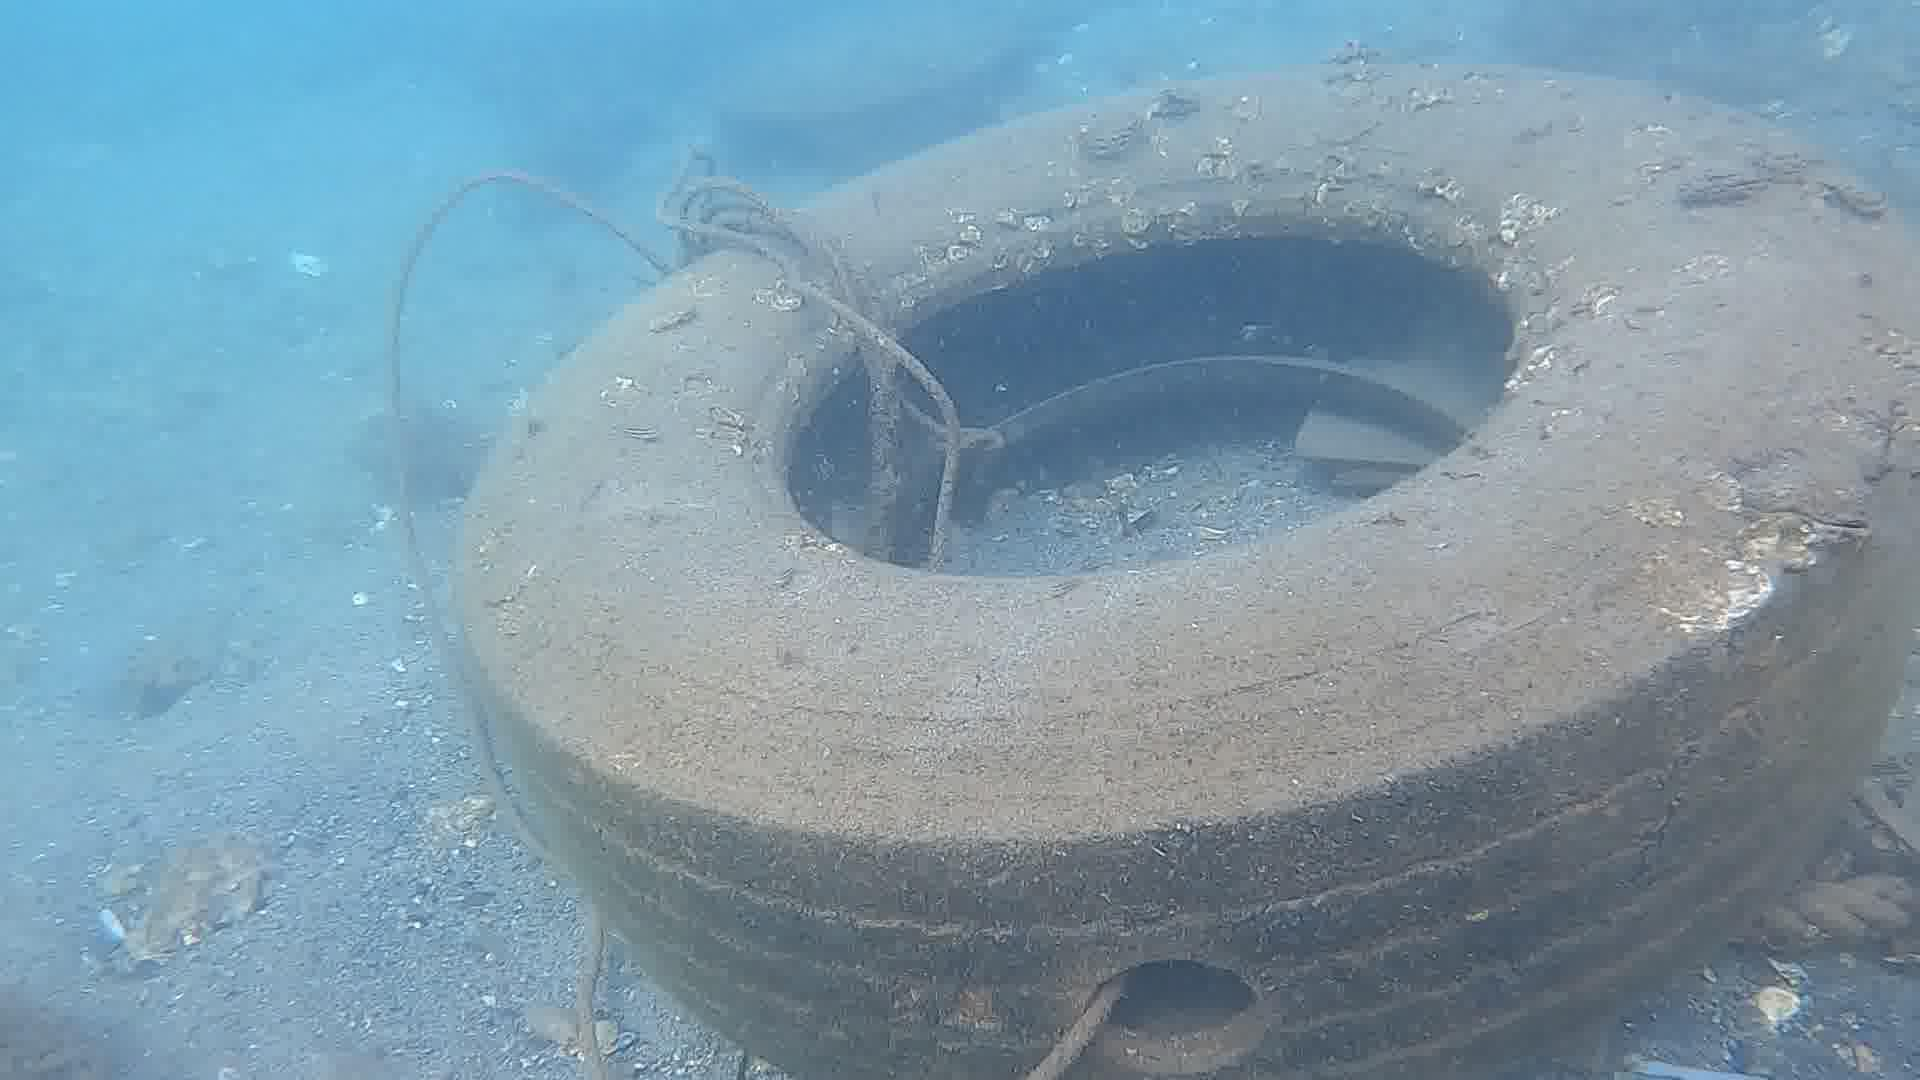bundle of ropes: (389, 142, 1007, 597)
rope: (1741, 873, 1920, 944)
tire: (448, 61, 1920, 1080)
